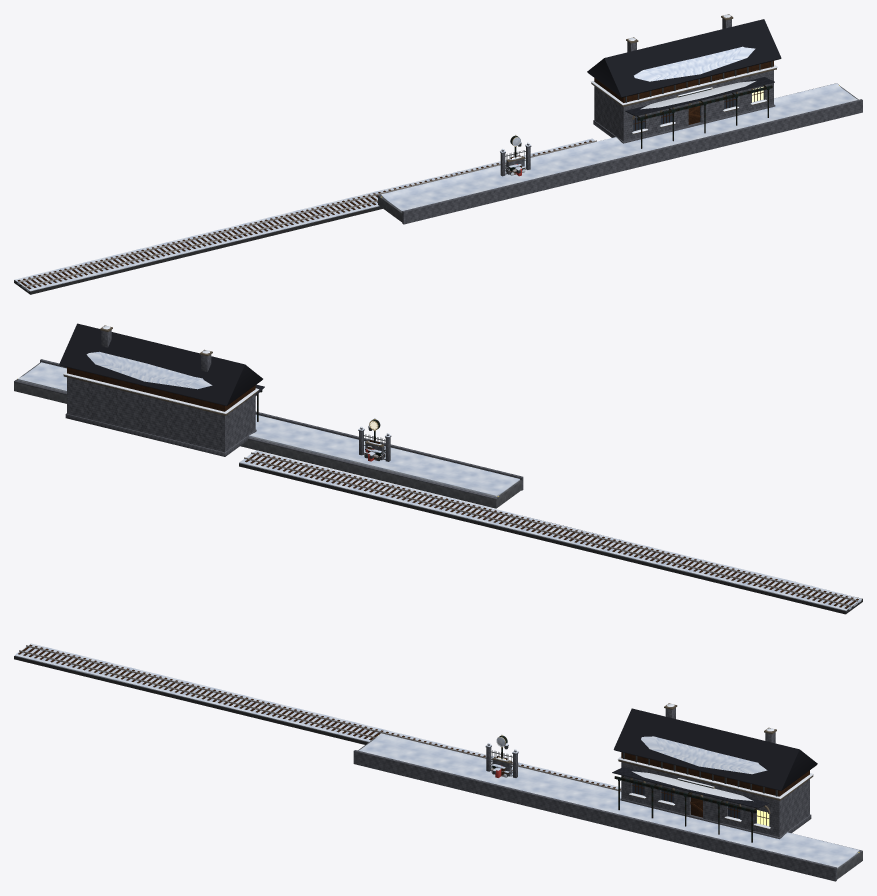
The model's file is station.glb.
The picture shows the model from 3 angles, top to bottom: view 1: azimuth 30°, elevation 25°; view 2: azimuth 150°, elevation 25°; view 3: azimuth 330°, elevation 25°; orthographic projection. The views are drawn at different scales.
Visible parts, largest first — view 1: StationBuilding, PlatformSnow, Platform, Track, TrackSnow, StationBuildingSnow; view 2: StationBuilding, Track, TrackSnow, PlatformSnow, Platform, StationBuildingSnow; view 3: StationBuilding, PlatformSnow, Platform, Track, TrackSnow, StationBuildingSnow.
Part boxes in pixels (x1,y1,x2,y2): StationBuilding: (587, 14, 781, 148); PlatformSnow: (381, 83, 857, 211); Platform: (377, 83, 862, 224); Track: (14, 140, 596, 294); TrackSnow: (14, 138, 594, 291); StationBuildingSnow: (591, 14, 777, 133); StationBuilding: (59, 323, 264, 456); Track: (239, 452, 862, 614); TrackSnow: (239, 450, 861, 610); PlatformSnow: (17, 362, 519, 496); Platform: (14, 359, 523, 508); StationBuildingSnow: (63, 326, 258, 413); StationBuilding: (612, 703, 817, 842); PlatformSnow: (359, 733, 859, 868); Platform: (353, 733, 862, 881); Track: (14, 644, 621, 791); TrackSnow: (15, 643, 621, 789); StationBuildingSnow: (618, 704, 813, 828).
Bounding box in the file's own units: 102 × 12.33 × 10.85.
Materials: 22 (11 with a texture image).
